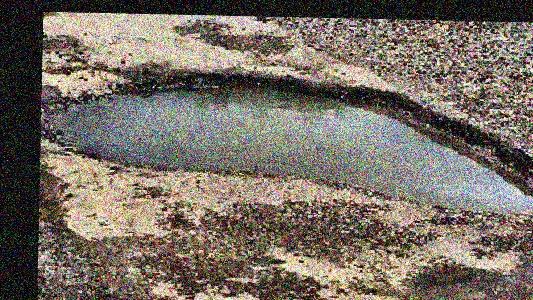pothole: (39, 67, 533, 222)
